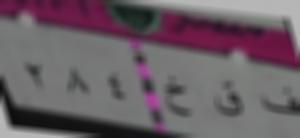2: (24, 61, 49, 91)
4: (105, 69, 129, 102)
8: (62, 66, 91, 102)
faa: (259, 85, 300, 121)
khaa: (161, 73, 195, 121)
qaaf: (211, 76, 246, 119)
